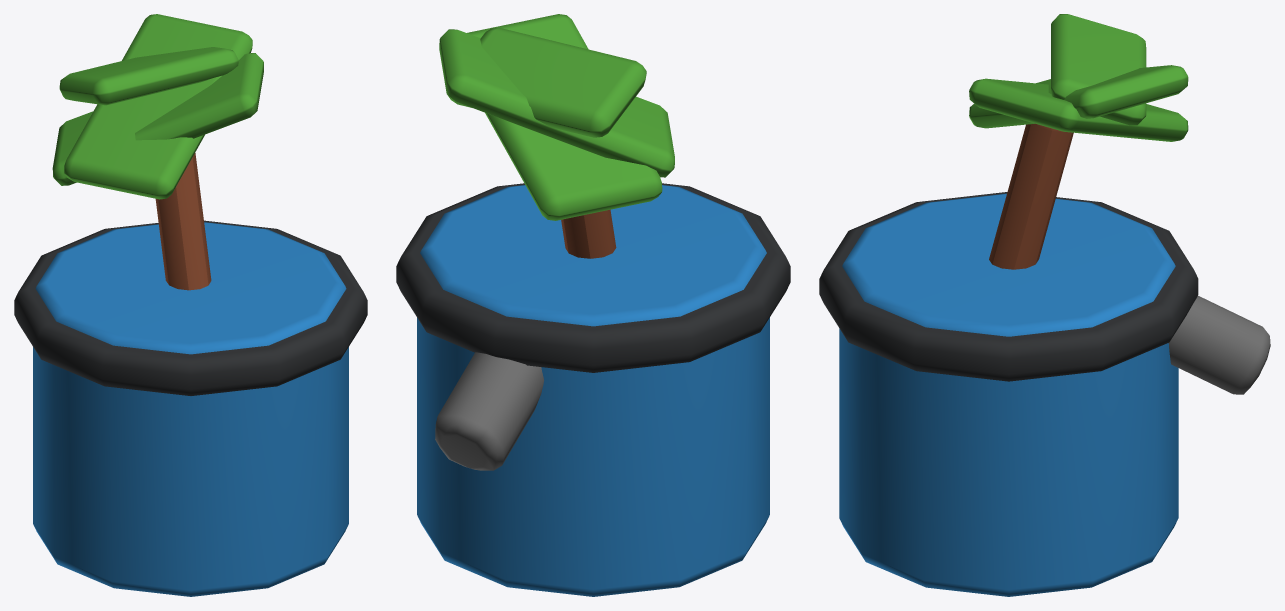
File: stump-healer.glb
3 views of the same model, side by side, from view 1: azimuth 30°, elevation 25°; view 2: azimuth 150°, elevation 25°; view 3: azimuth 270°, elevation 25° (orthographic). The views are drawn at different scales.
Visible parts, largest first — view 1: stump-healer; view 2: stump-healer; view 3: stump-healer.
Part boxes in pixels (x1,y1,x2,y2): stump-healer: [14, 14, 367, 596]; stump-healer: [396, 14, 790, 596]; stump-healer: [819, 14, 1270, 596].
Bounding box in the file's own units: 0.38 × 0.5371 × 0.4523.
